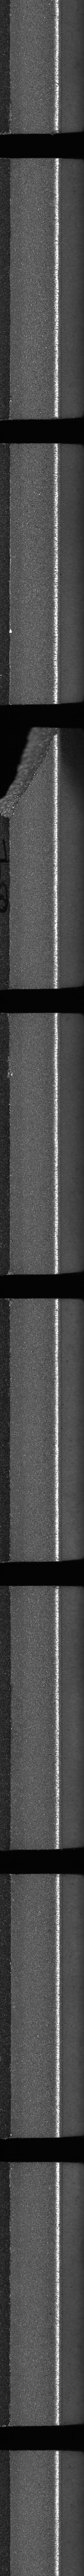Chip: (0, 723, 63, 828)
